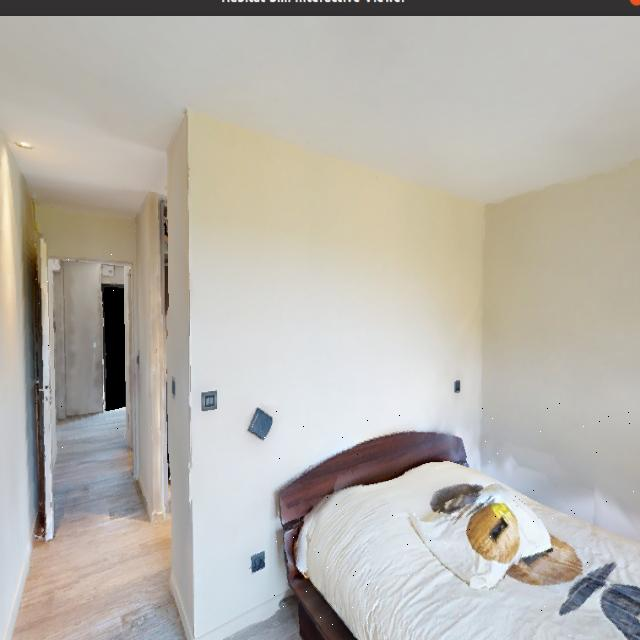bed: (263, 398, 640, 640)
door-frame: (24, 227, 144, 483)
